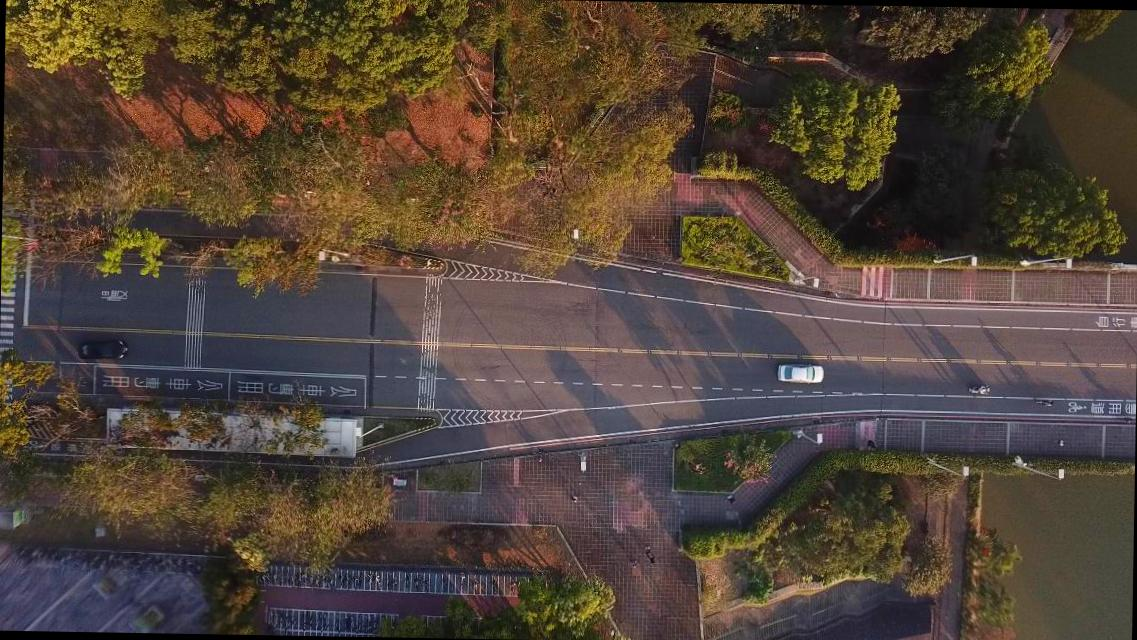vehicle: (77, 338, 128, 359), (776, 362, 823, 384)
